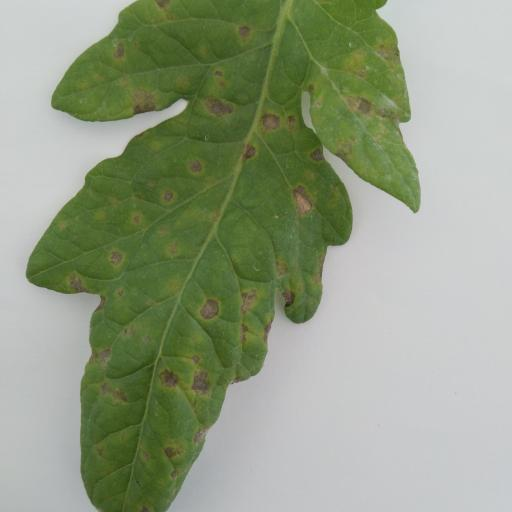Early Blight: (26, 0, 422, 512)
